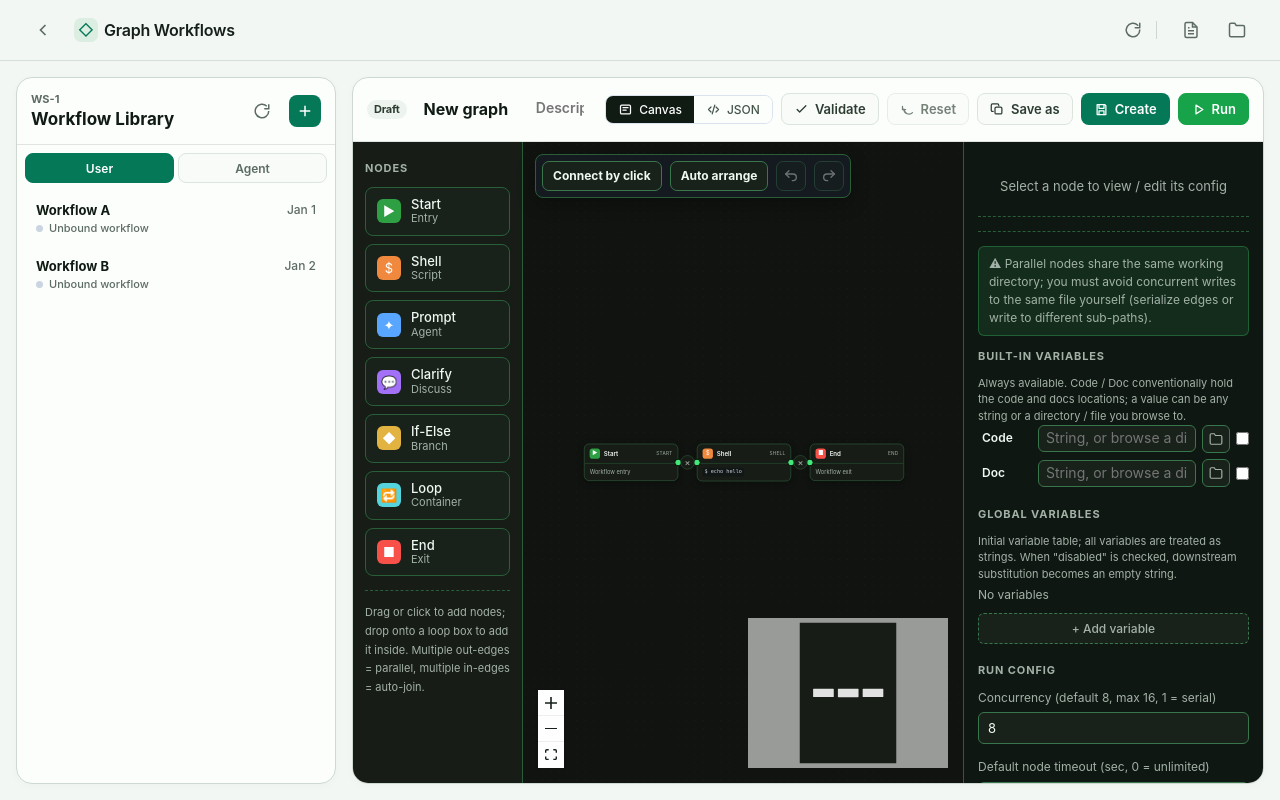
Test: GraphWorkflowPage JSON view lifecycle › resets the JSON view when starting a new workflow
Click the button with test id "graph-workflow-row-wf-a" at (73, 210), box x1=25 y1=191 x2=327 y2=247
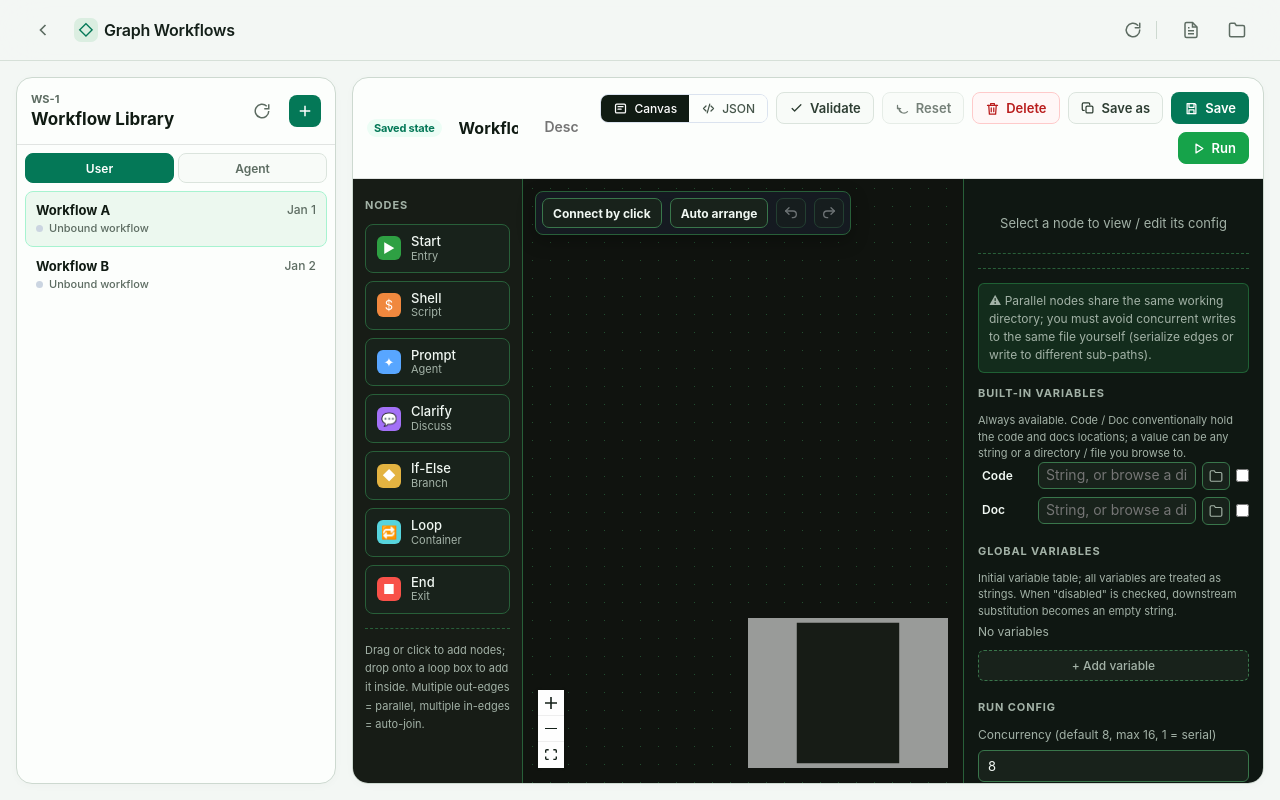
Result: the field with test id "graph-name-input" holds "Workflow A" at x1=450 y1=111 x2=527 y2=145
Click the button with test id "graph-view-json" at (728, 108), box x1=689 y1=94 x2=767 y2=122
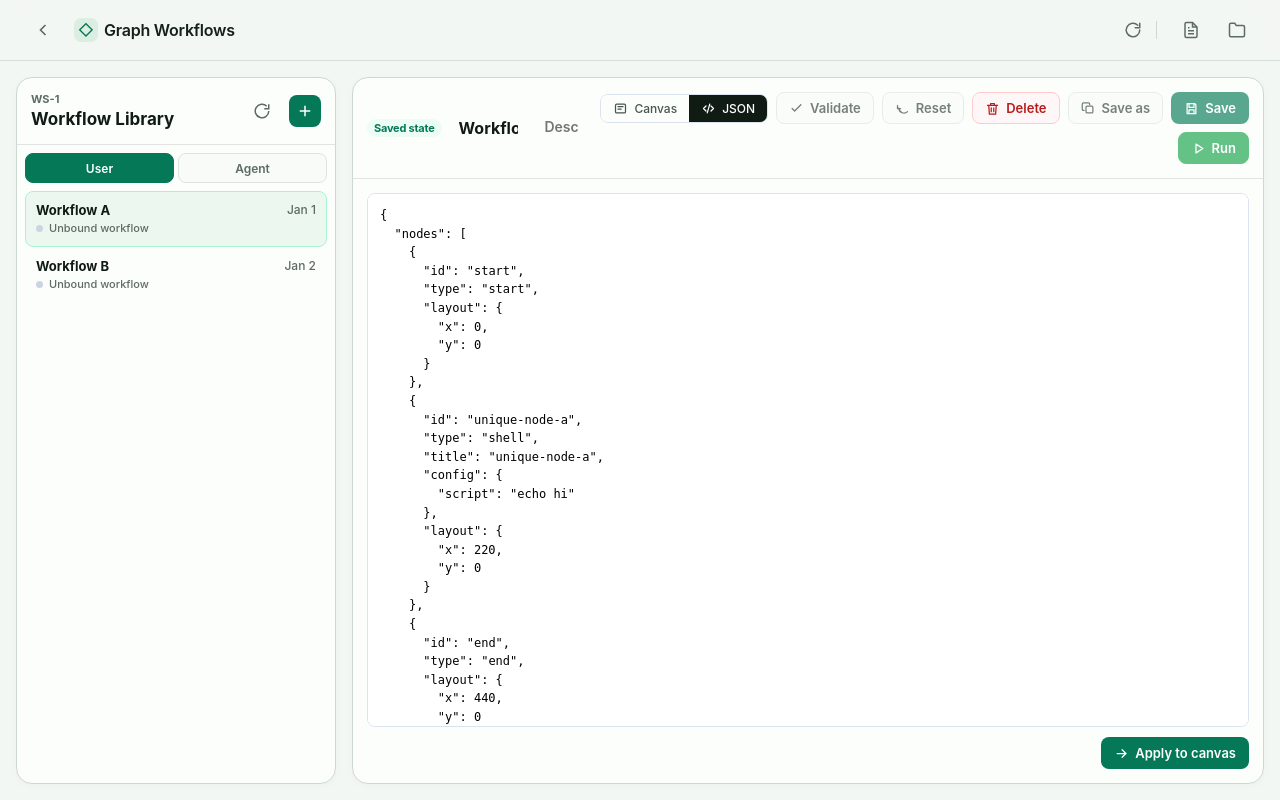
Click the button named "New workflow" at (305, 111), box x1=289 y1=95 x2=321 y2=127
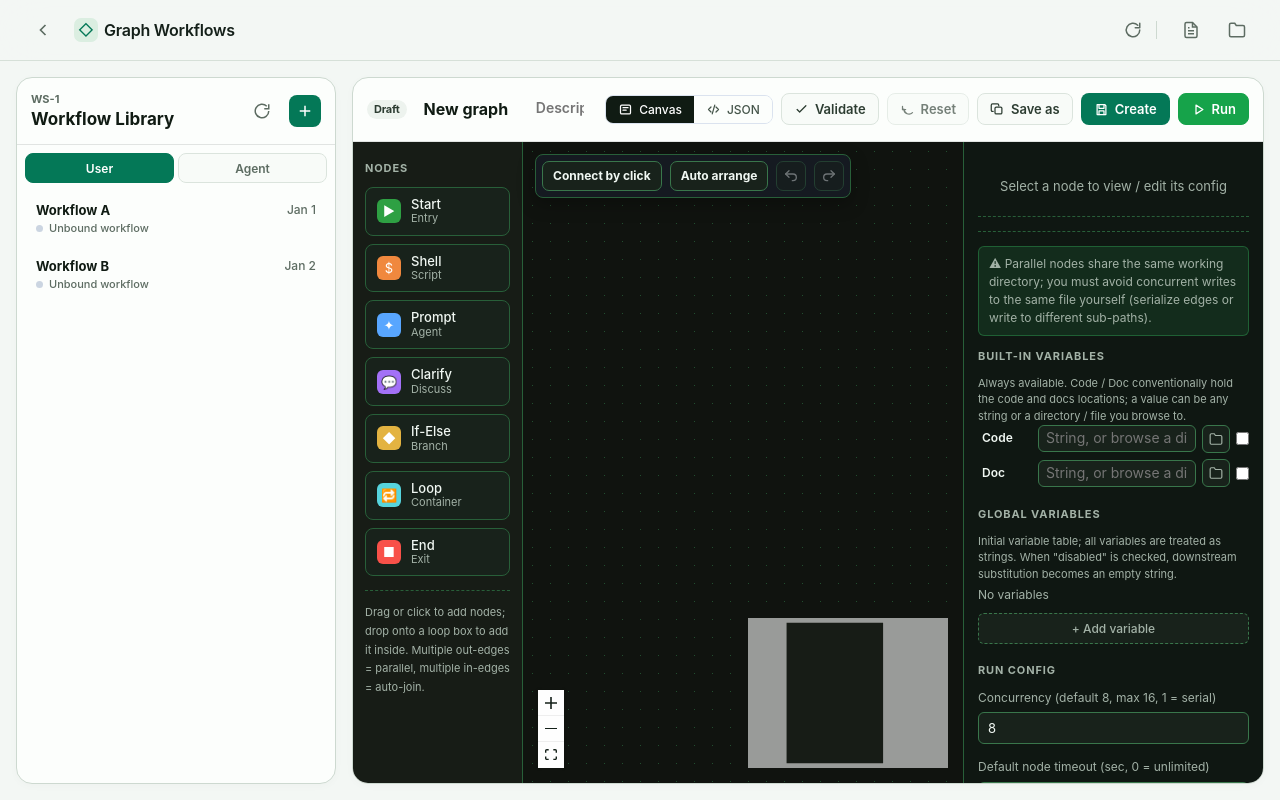
Result: the field with test id "graph-name-input" holds "New graph workflow" at x1=414 y1=92 x2=519 y2=127
Result: the text box with test id "graph-json-textarea" is gone
